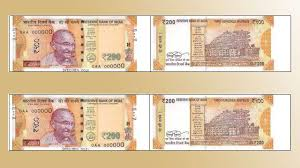twoHundred: (16, 101, 127, 141), (16, 25, 132, 62)
